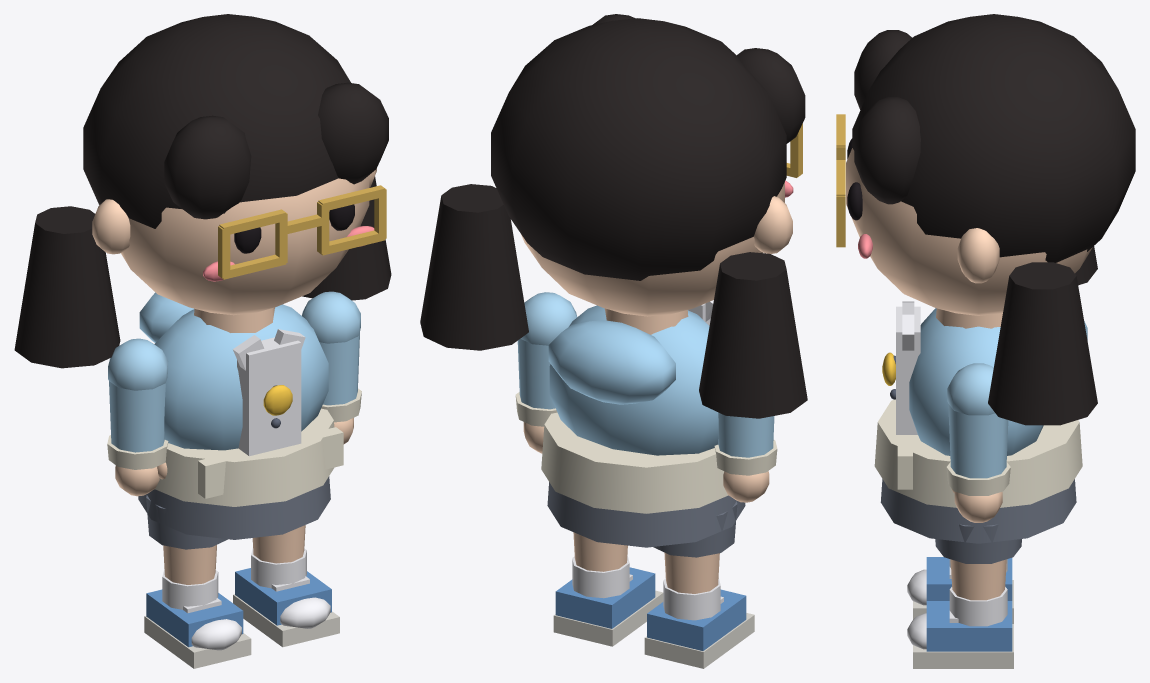
File: girl_chibi.glb
3 views of the same model, side by side, from view 1: azimuth 30°, elevation 25°; view 2: azimuth 150°, elevation 25°; view 3: azimuth 270°, elevation 25° (orthographic). The views are drawn at different scales.
Parts seen in each view (by area): view 1: _MeshInstance3D_115, _MeshInstance3D_108, _MeshInstance3D_119, _MeshInstance3D_83, _MeshInstance3D_84, _MeshInstance3D_116, _MeshInstance3D_82, _MeshInstance3D_86, _MeshInstance3D_117, _MeshInstance3D_97, _MeshInstance3D_121, _MeshInstance3D_96 (+28 smaller); view 2: _MeshInstance3D_115, _MeshInstance3D_119, _MeshInstance3D_121, _MeshInstance3D_83, _MeshInstance3D_84, _MeshInstance3D_85, _MeshInstance3D_108, _MeshInstance3D_82, _MeshInstance3D_78, _MeshInstance3D_69, _MeshInstance3D_116, _MeshInstance3D_97 (+14 smaller); view 3: _MeshInstance3D_115, _MeshInstance3D_121, _MeshInstance3D_108, _MeshInstance3D_84, _MeshInstance3D_83, _MeshInstance3D_82, _MeshInstance3D_117, _MeshInstance3D_103, _MeshInstance3D_78, _MeshInstance3D_86, _MeshInstance3D_102, _MeshInstance3D_74 (+16 smaller).
Part boxes in pixels (x1,y1,x2,y2): _MeshInstance3D_115: (83, 14, 350, 228); _MeshInstance3D_108: (99, 175, 369, 315); _MeshInstance3D_119: (14, 206, 120, 368); _MeshInstance3D_83: (154, 304, 328, 450); _MeshInstance3D_84: (155, 408, 334, 506); _MeshInstance3D_116: (164, 115, 251, 219); _MeshInstance3D_82: (138, 476, 330, 539); _MeshInstance3D_86: (237, 337, 301, 456); _MeshInstance3D_117: (318, 82, 388, 184); _MeshInstance3D_97: (109, 381, 166, 452); _MeshInstance3D_121: (302, 177, 391, 300); _MeshInstance3D_96: (108, 338, 168, 390); _MeshInstance3D_115: (491, 18, 786, 280); _MeshInstance3D_119: (699, 252, 807, 418); _MeshInstance3D_121: (420, 184, 528, 350); _MeshInstance3D_83: (549, 305, 718, 455); _MeshInstance3D_84: (541, 412, 728, 513); _MeshInstance3D_85: (548, 320, 675, 404); _MeshInstance3D_108: (521, 182, 784, 316); _MeshInstance3D_82: (547, 482, 745, 547); _MeshInstance3D_78: (555, 567, 655, 628); _MeshInstance3D_69: (647, 589, 746, 650); _MeshInstance3D_116: (737, 48, 805, 143); _MeshInstance3D_97: (718, 412, 774, 457); _MeshInstance3D_115: (852, 14, 1135, 262); _MeshInstance3D_121: (988, 262, 1097, 425); _MeshInstance3D_108: (846, 148, 1092, 315); _MeshInstance3D_84: (874, 399, 1082, 507); _MeshInstance3D_83: (909, 308, 1043, 455); _MeshInstance3D_82: (880, 479, 1076, 543); _MeshInstance3D_117: (854, 97, 920, 204); _MeshInstance3D_103: (948, 404, 1008, 478); _MeshInstance3D_78: (926, 601, 1012, 651); _MeshInstance3D_86: (896, 306, 920, 434); _MeshInstance3D_102: (947, 363, 994, 415); _MeshInstance3D_74: (935, 524, 1021, 563).
Size of the model in its own units: 1.38 by 2.18 by 0.9779.
